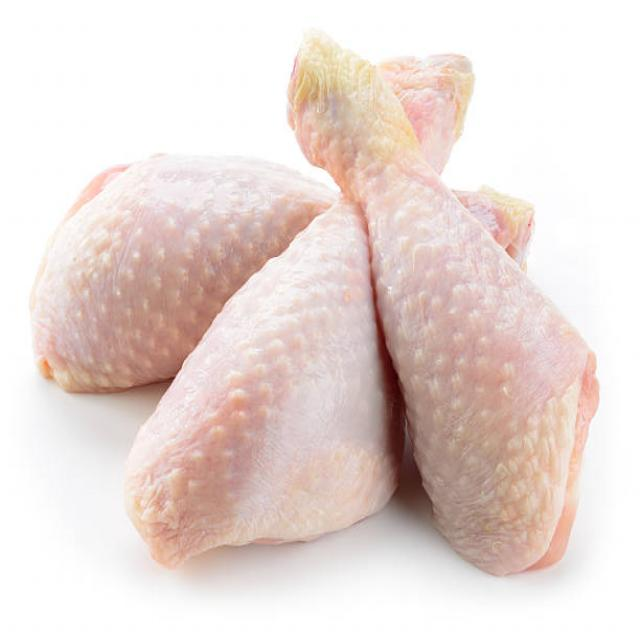Chicken: (375, 129, 606, 573), (124, 249, 382, 562), (22, 146, 280, 381)
